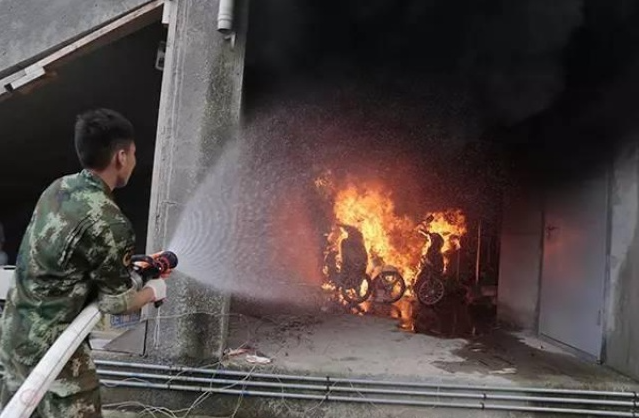喷灌水雾: (166, 86, 519, 316)
